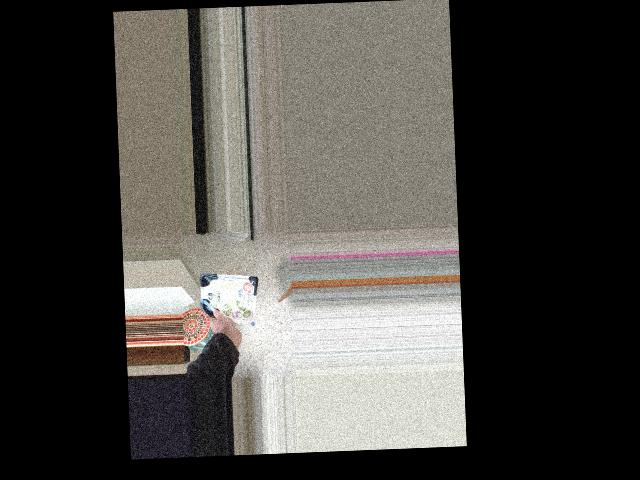cheese: (200, 283, 260, 345)
